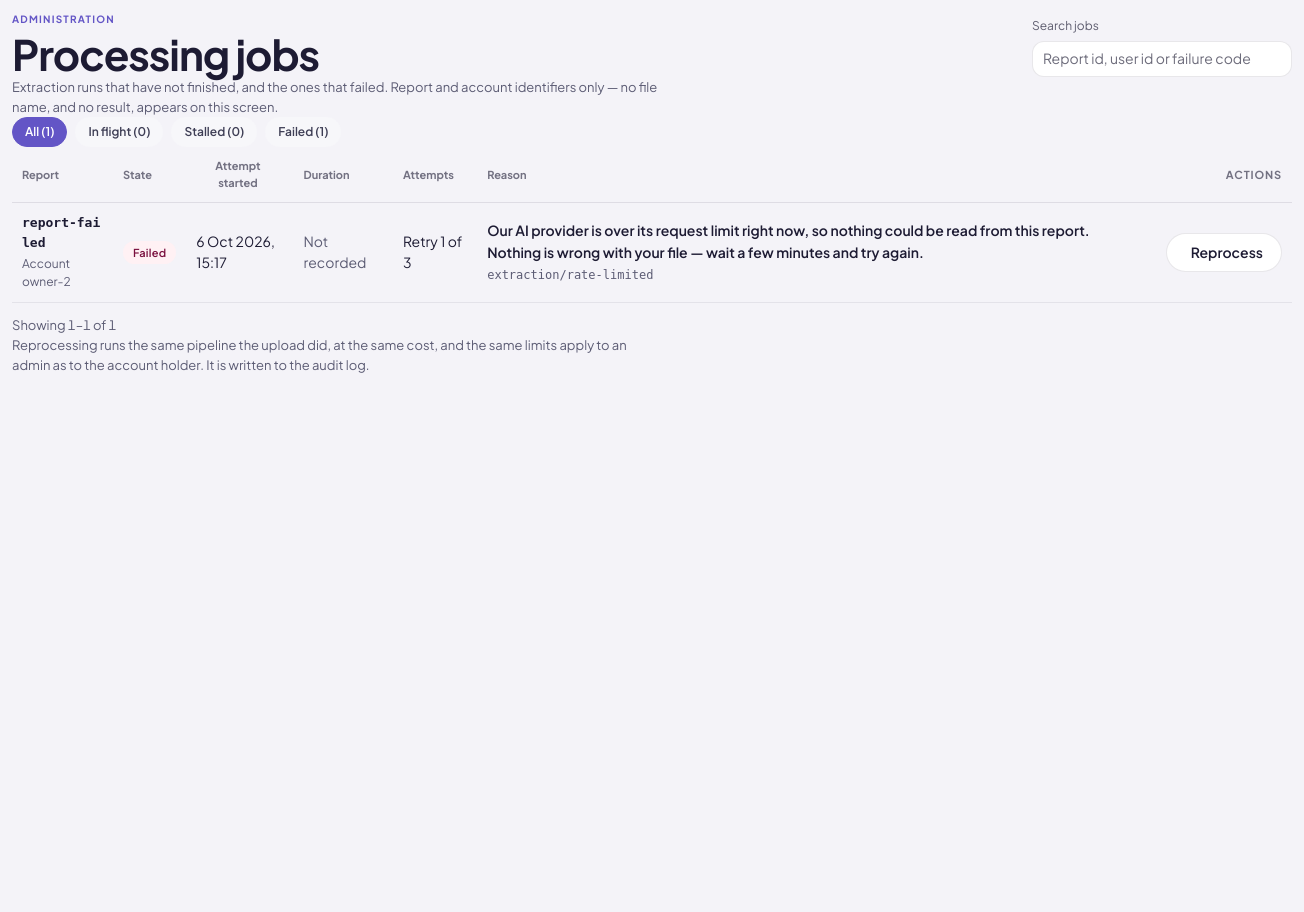
AdminJobs › says so when the second attempt failed too, rather than announcing success
Click the button with aria-label "Reprocess report report-failed".
click(1224, 252)  # box [1166,233,1282,272]
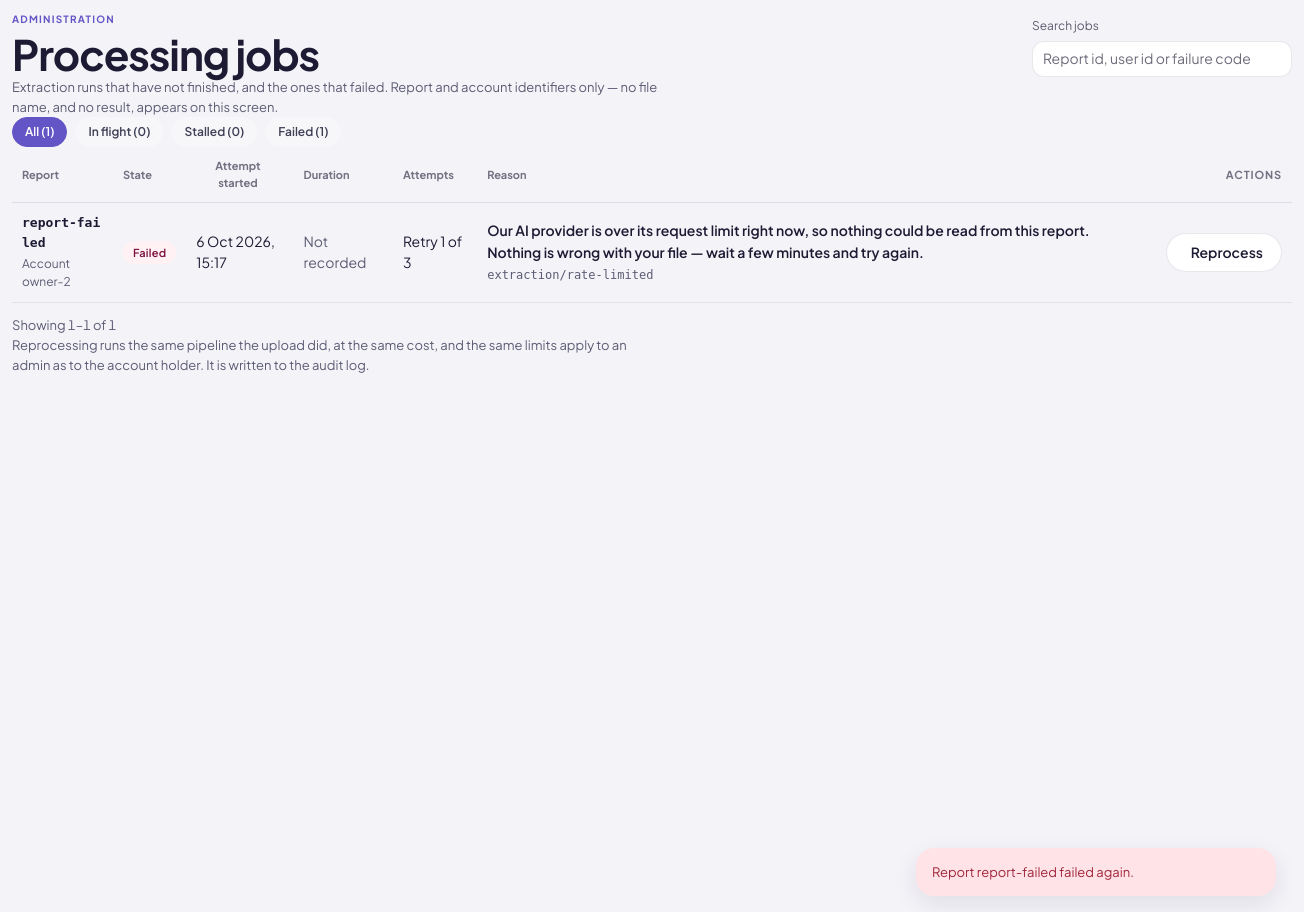
Now the text "Report report-failed failed again." is shown, box [932,864,1134,880]
